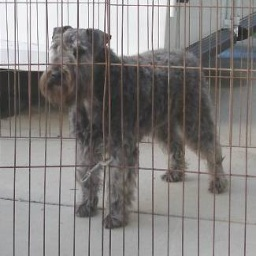dog: (38, 26, 228, 223)
